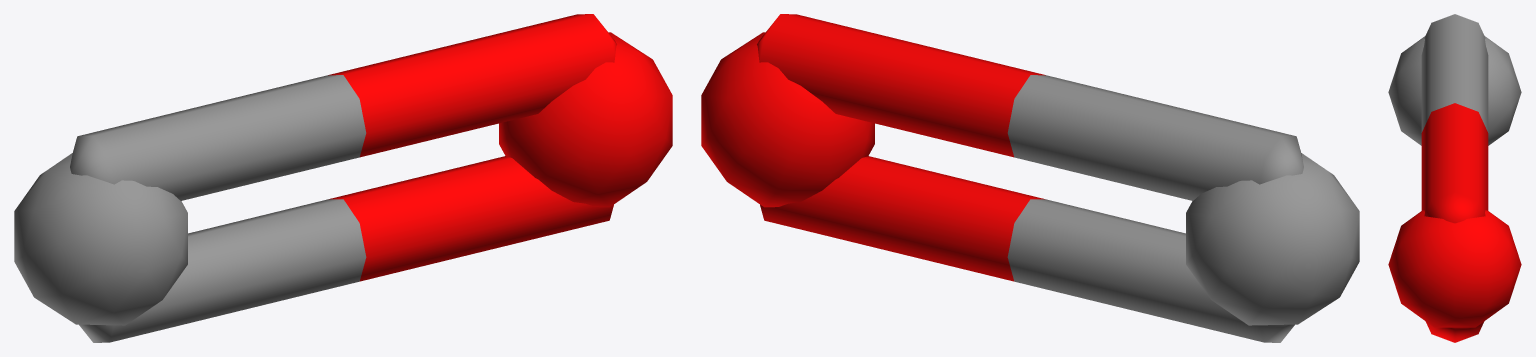
The model's file is formalde.glb.
3 views of the same model, side by side, from view 1: azimuth 30°, elevation 25°; view 2: azimuth 150°, elevation 25°; view 3: azimuth 270°, elevation 25° (orthographic). The views are drawn at different scales.
Visible parts, largest first — view 1: node-geom3; view 2: node-geom3; view 3: node-geom3.
Part boxes in pixels (x1=…): node-geom3: x1=14, y1=14, x2=672, y2=342; node-geom3: x1=701, y1=14, x2=1359, y2=342; node-geom3: x1=1388, y1=14, x2=1521, y2=342.
Bounding box in the file's own units: 1.62 × 0.5 × 0.4.
